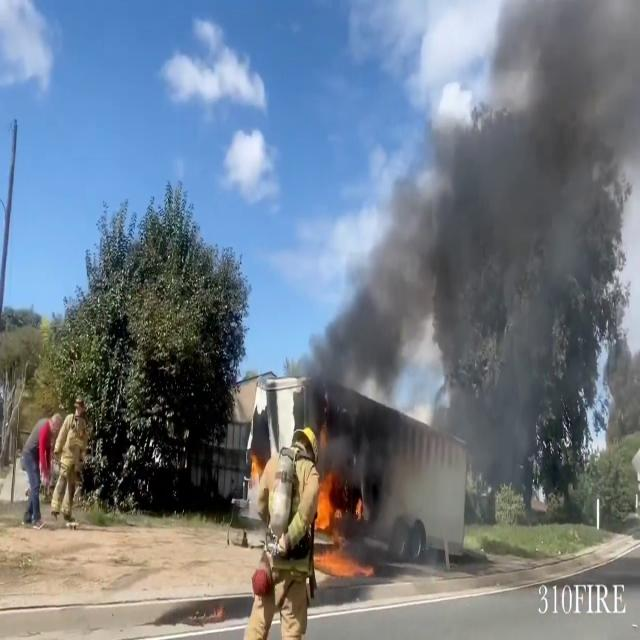Fire: (312, 460, 342, 541)
Smoke: (306, 0, 640, 498)
